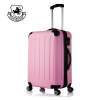luggage: (25, 5, 76, 96)
